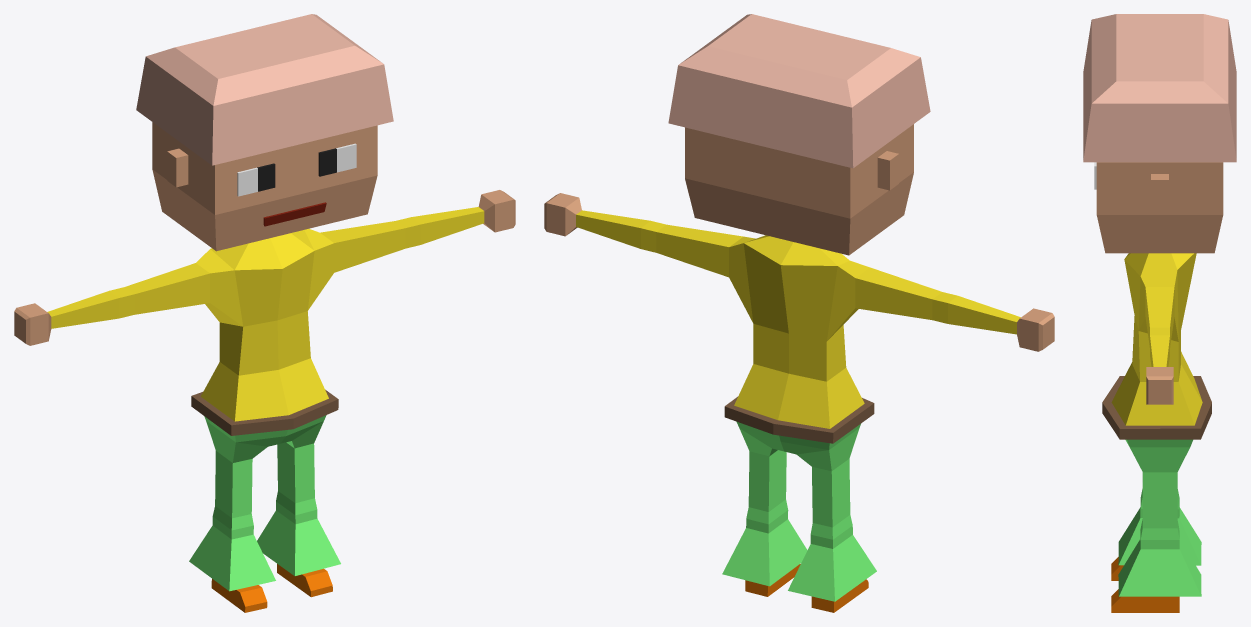
Rendered from girl1.fbx.
3 views of the same model, side by side, from view 1: azimuth 30°, elevation 25°; view 2: azimuth 150°, elevation 25°; view 3: azimuth 270°, elevation 25° (orthographic).
Parts seen in each view (by area): view 1: Guy2, Guy2.hat; view 2: Guy2, Guy2.hat; view 3: Guy2, Guy2.hat.
Part boxes in pixels (x1,y1,x2,y2): Guy2: (14,122,515,612); Guy2.hat: (136,14,393,165); Guy2: (544,124,1054,612); Guy2.hat: (668,14,930,168); Guy2: (1094,162,1223,612); Guy2.hat: (1083,14,1236,162).
Bounding box in the file's own units: 276 × 290 × 74.3.
Materials: 1 (1 with a texture image).
